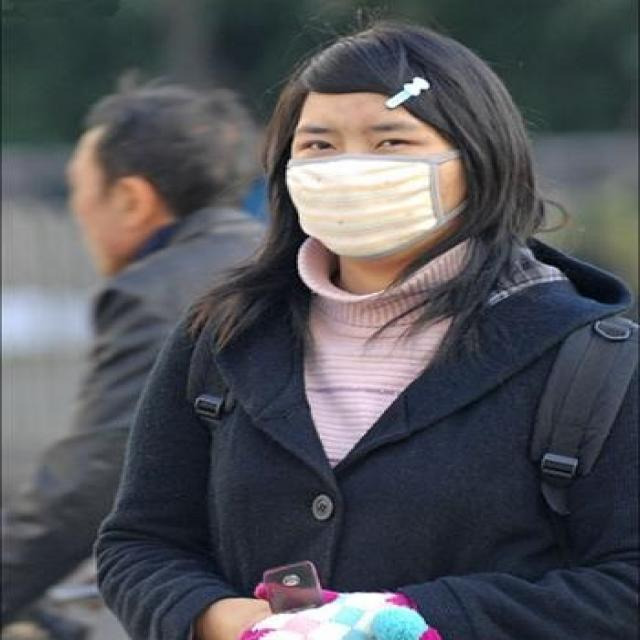mask: (282, 91, 438, 259)
nomask: (68, 140, 140, 268)
